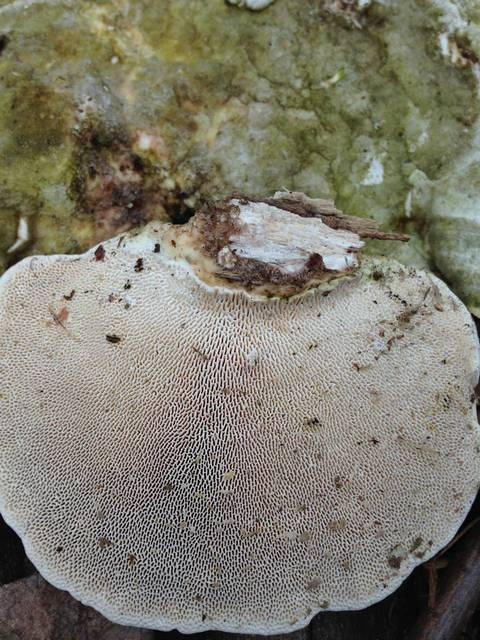poisonous_mushroom: (0, 189, 479, 637)
